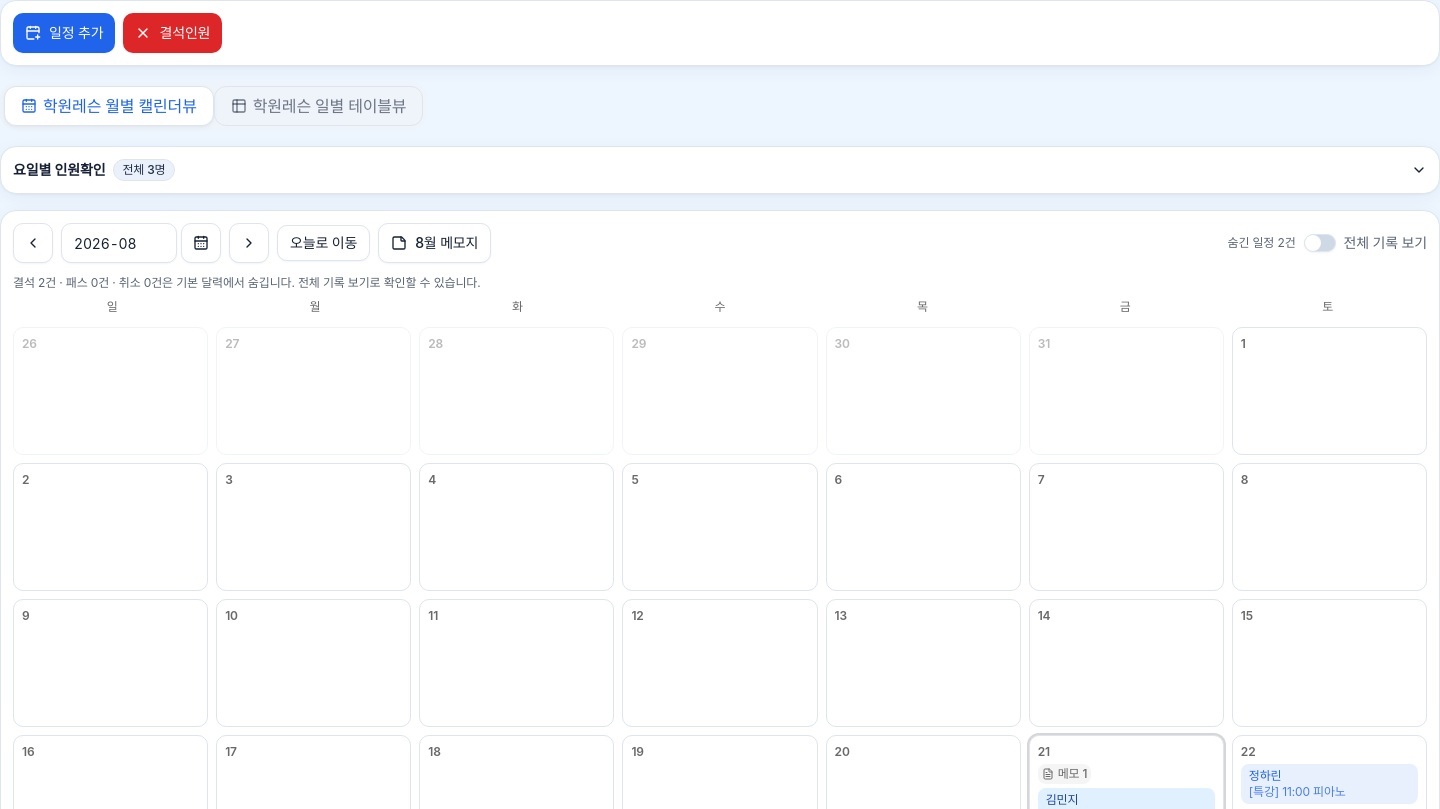
Test: 학원 레슨표 결석인원과 결석 사유서 › 다른 날짜의 미처리 결석도 같은 목록에서 바로 결석확인할 수 있다
The image size is (1440, 809).
Click the button "결석인원" at (173, 33), box left=124, top=13, right=222, bottom=53
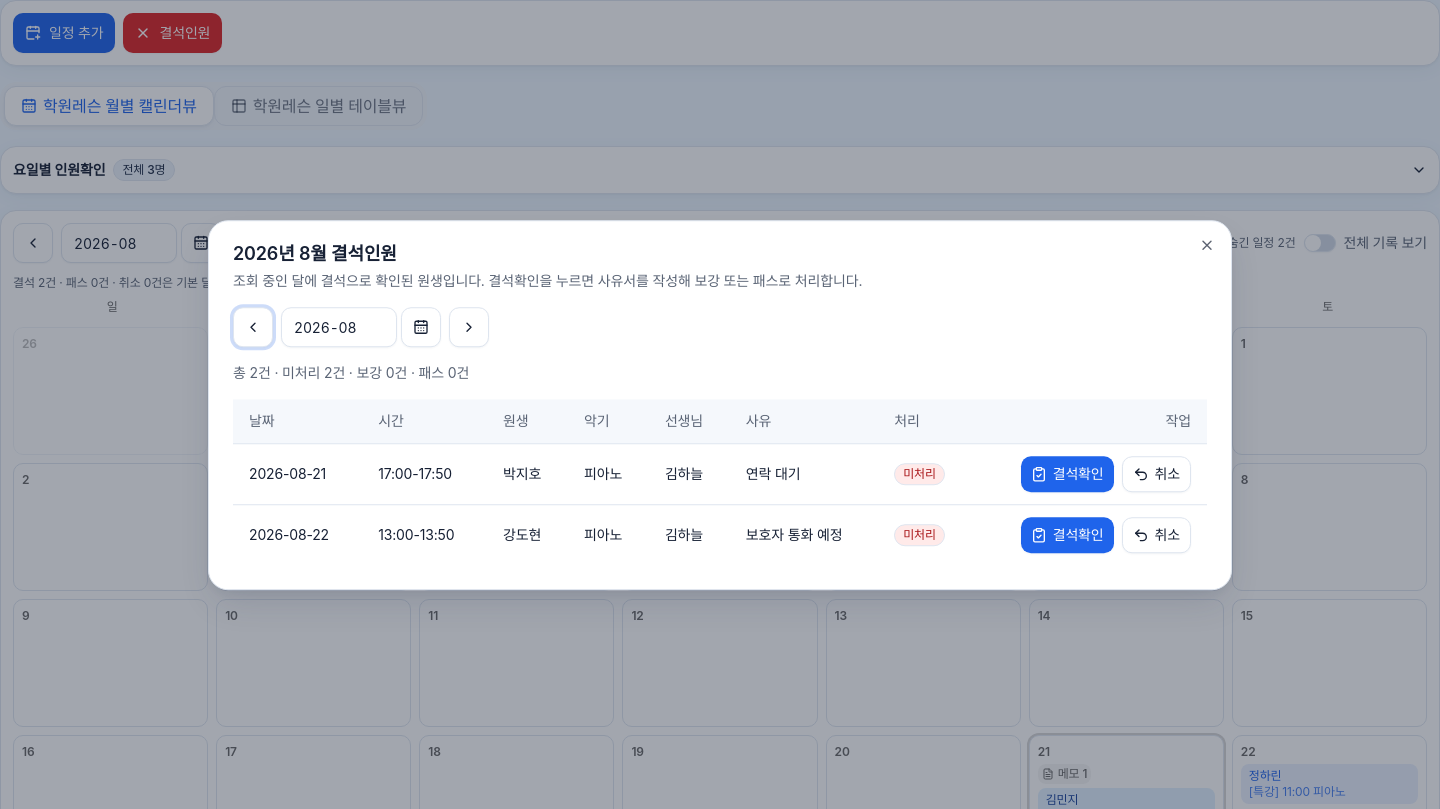
Click the button with aria-label "강도현 결석확인" at (1067, 535), box left=1021, top=517, right=1114, bottom=553
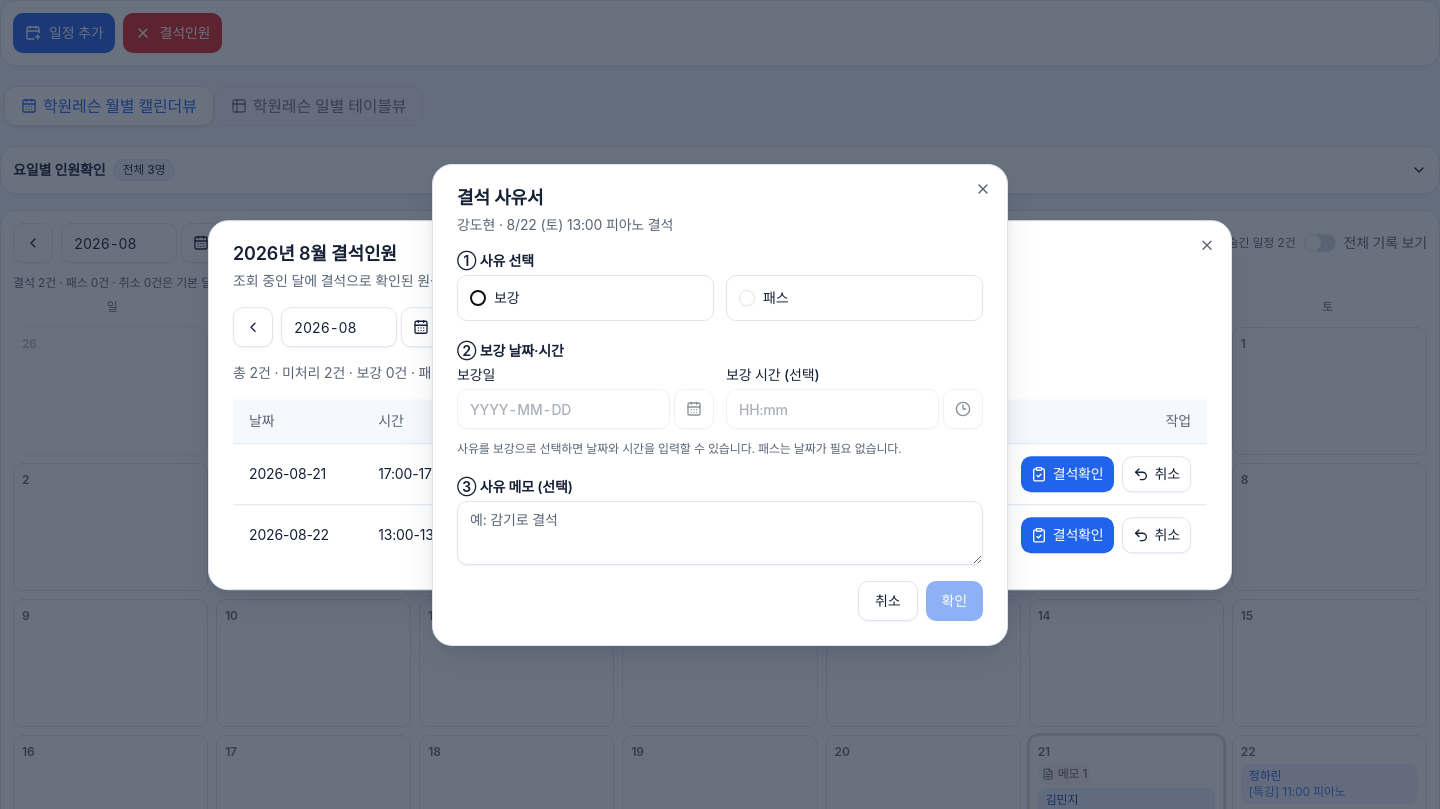
Expected: the dialog "결석 사유서" shows "강도현 · 8/22", left=457, top=216, right=673, bottom=233
